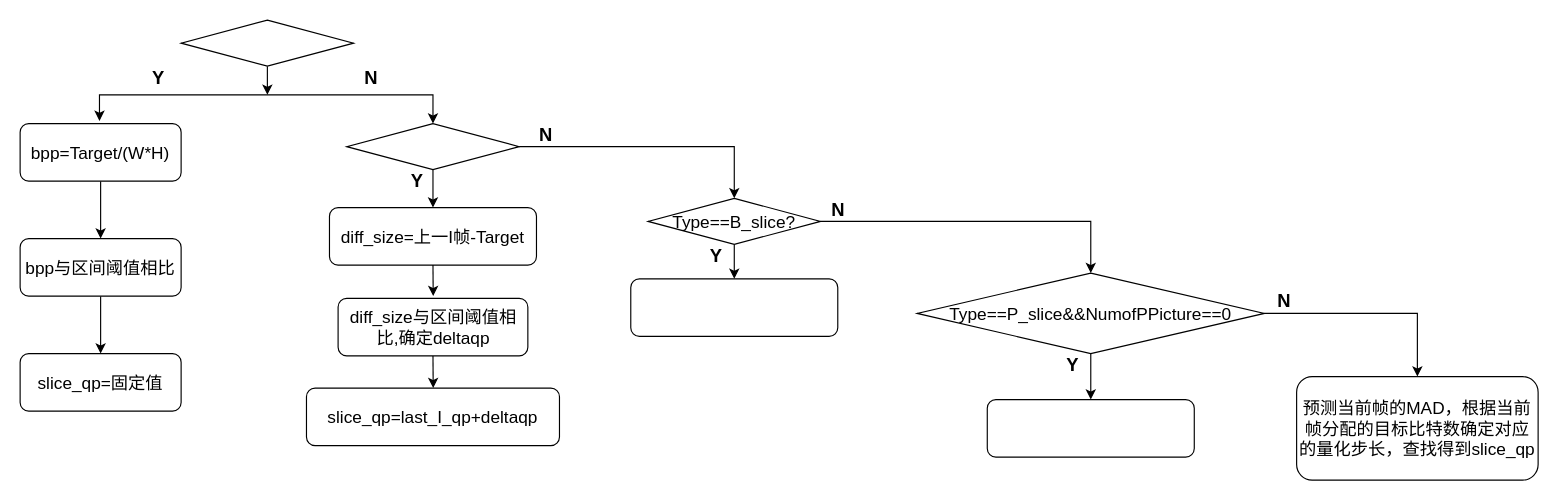
The diagram is 1558 pixels wide and 500 high, and some of its shapes have lost their labels. The centre of each missing label's shape, as x and y in pixels:
"compute_pre_avr_qp" belongs at (x=1090, y=427).
"Number==0?" belongs at (x=267, y=42).
"slice_qp=prevqp+2" belongs at (x=734, y=307).
"Type==I_slice?" belongs at (x=432, y=146).
